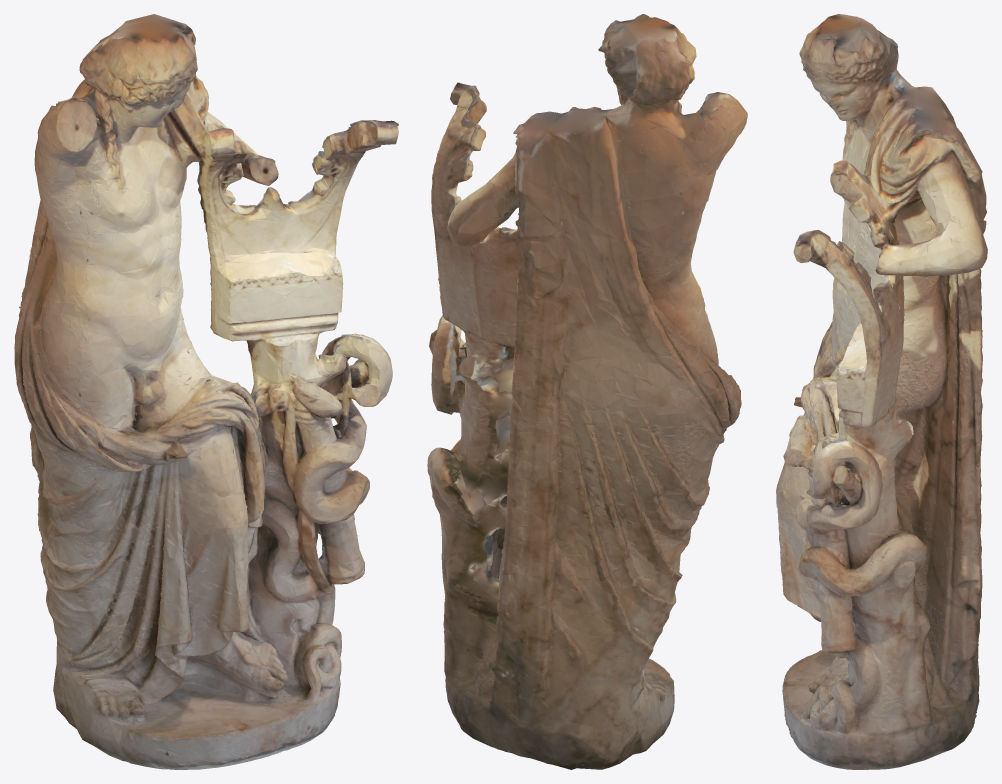
Rendered from apollo-statue.glb.
3 views of the same model, side by side, from view 1: azimuth 30°, elevation 25°; view 2: azimuth 150°, elevation 25°; view 3: azimuth 270°, elevation 25° (orthographic). The views are drawn at different scales.
Visible parts, largest first — view 1: Object_2; view 2: Object_2; view 3: Object_2.
Part boxes in pixels (bbox=[...]): Object_2: bbox=[14, 14, 398, 769]; Object_2: bbox=[427, 14, 747, 769]; Object_2: bbox=[776, 14, 987, 769].
Size of the model in its own units: 10.14 by 21.03 by 6.05.
1 material, 1 textured.
